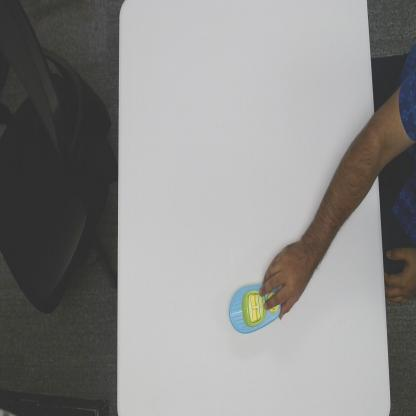Arm: (306, 114, 377, 264)
Boat: (228, 281, 281, 335)
Hand: (258, 244, 306, 322)
